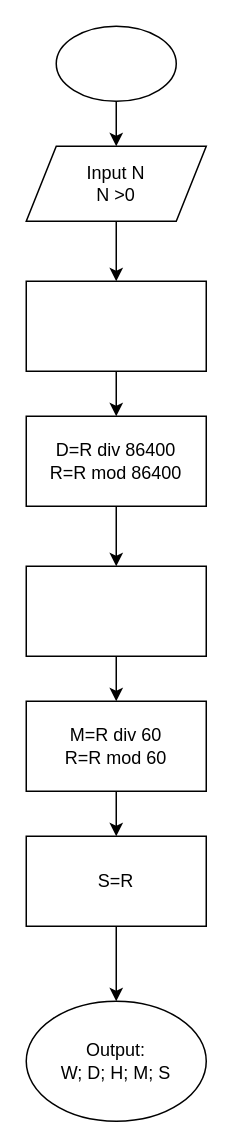
This 233x1148 diagram has some shape labels left out. The centre of each missing label's shape, as x and y in pixels:
H=R div 3600 R=R mod 3600: point 115,610
Start: point 115,63
W=N div 604800 R=N mod 604800: point 115,325
